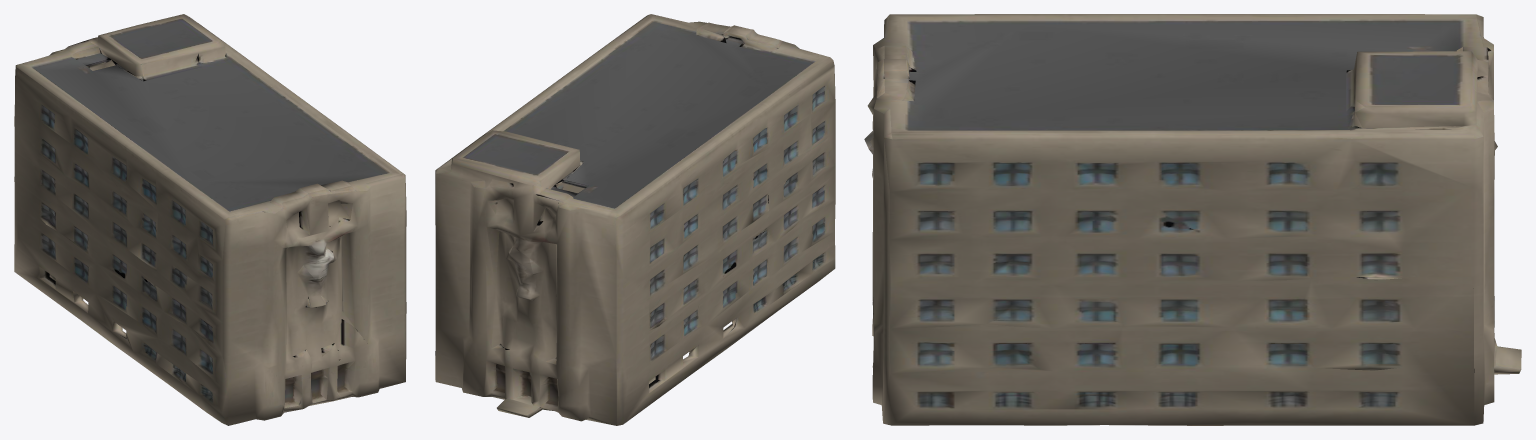
File: st_peters_in_the_loop.glb
3 views of the same model, side by side, from view 1: azimuth 30°, elevation 25°; view 2: azimuth 150°, elevation 25°; view 3: azimuth 270°, elevation 25° (orthographic). The views are drawn at different scales.
Parts seen in each view (by area): view 1: st_peters_in_the_loop; view 2: st_peters_in_the_loop; view 3: st_peters_in_the_loop.
Part boxes in pixels (x1,y1,x2,y2): st_peters_in_the_loop: [14, 14, 406, 425]; st_peters_in_the_loop: [435, 14, 835, 425]; st_peters_in_the_loop: [864, 14, 1521, 425].
Bounding box in the file's own units: 24 × 27 × 52.
Materials: 1 (1 with a texture image).
